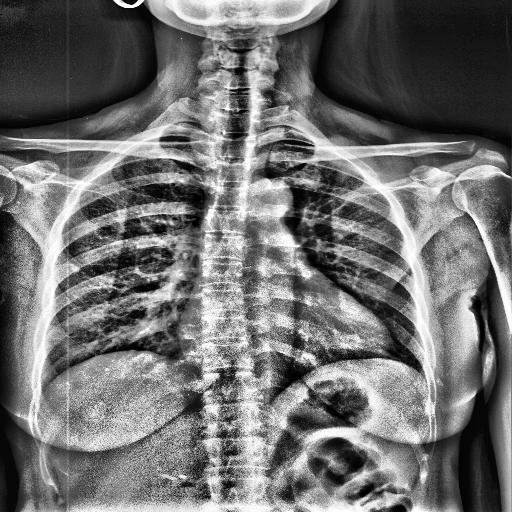0- Aortic enlargement: (236, 176, 294, 223), (248, 178, 293, 226), (238, 180, 292, 218)
3- Cardiomegaly: (176, 310, 394, 377), (176, 299, 392, 363), (179, 307, 393, 358)
